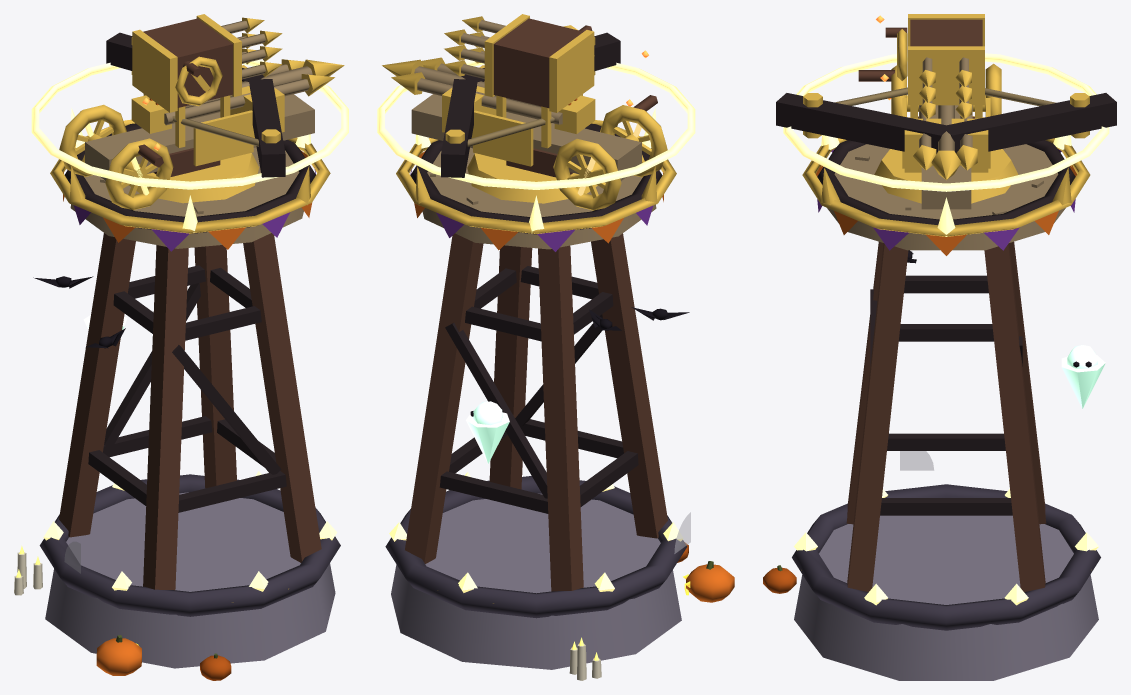
Rendered from tower_ballista_boltStorm_ultimate.glb.
The picture shows the model from 3 angles, left to right: view 1: azimuth 30°, elevation 25°; view 2: azimuth 150°, elevation 25°; view 3: azimuth 270°, elevation 25°; orthographic projection. The views are drawn at different scales.
Parts seen in each view (by area): view 1: base, leg_wn, leg_en, base_rim, leg_ws, leg_es, deck, ult_halo, ult_crown_band, magazine, stock, magazine_band_b (+29 smaller); view 2: base, leg_ws, leg_es, base_rim, leg_wn, leg_en, deck, magazine, ult_halo, ult_crown_band, stock, magazine_band_b (+29 smaller); view 3: base, base_rim, leg_en, leg_es, deck, ult_halo, bow_arm_l, bow_arm_r, ult_crown_band, magazine_band_f, deck_rim, turret_ring (+18 smaller).
Boxes of the visible parts, bbox=[...] form: base: bbox=[45, 492, 335, 668]; leg_wn: bbox=[143, 245, 188, 590]; leg_en: bbox=[243, 233, 321, 562]; base_rim: bbox=[39, 474, 340, 616]; leg_ws: bbox=[59, 233, 135, 537]; leg_es: bbox=[194, 245, 236, 488]; deck: bbox=[70, 147, 303, 248]; ult_halo: bbox=[31, 60, 348, 189]; ult_crown_band: bbox=[50, 119, 330, 233]; magazine: bbox=[143, 18, 232, 107]; stock: bbox=[85, 94, 314, 180]; magazine_band_b: bbox=[132, 29, 177, 112]; base: bbox=[391, 493, 681, 669]; leg_ws: bbox=[538, 245, 583, 591]; leg_es: bbox=[405, 233, 483, 563]; base_rim: bbox=[385, 476, 687, 618]; leg_wn: bbox=[591, 233, 667, 538]; leg_en: bbox=[489, 245, 532, 489]; deck: bbox=[422, 147, 656, 249]; magazine: bbox=[493, 18, 583, 108]; ult_halo: bbox=[377, 59, 695, 189]; ult_crown_band: bbox=[396, 120, 676, 233]; stock: bbox=[411, 94, 641, 180]; magazine_band_b: bbox=[549, 30, 594, 112]; base: bbox=[794, 515, 1098, 680]; base_rim: bbox=[792, 484, 1100, 630]; leg_en: bbox=[847, 243, 908, 592]; leg_es: bbox=[984, 243, 1045, 592]; deck: bbox=[827, 144, 1065, 250]; ult_halo: bbox=[783, 53, 1109, 191]; bow_arm_l: bbox=[776, 93, 950, 153]; bow_arm_r: bbox=[943, 93, 1116, 152]; ult_crown_band: bbox=[802, 116, 1090, 236]; magazine_band_f: bbox=[908, 46, 984, 105]; deck_rim: bbox=[817, 140, 1075, 234]; turret_ring: bbox=[874, 149, 1018, 203].
Size of the model in its own units: 0.463 by 0.848 by 0.4638.
